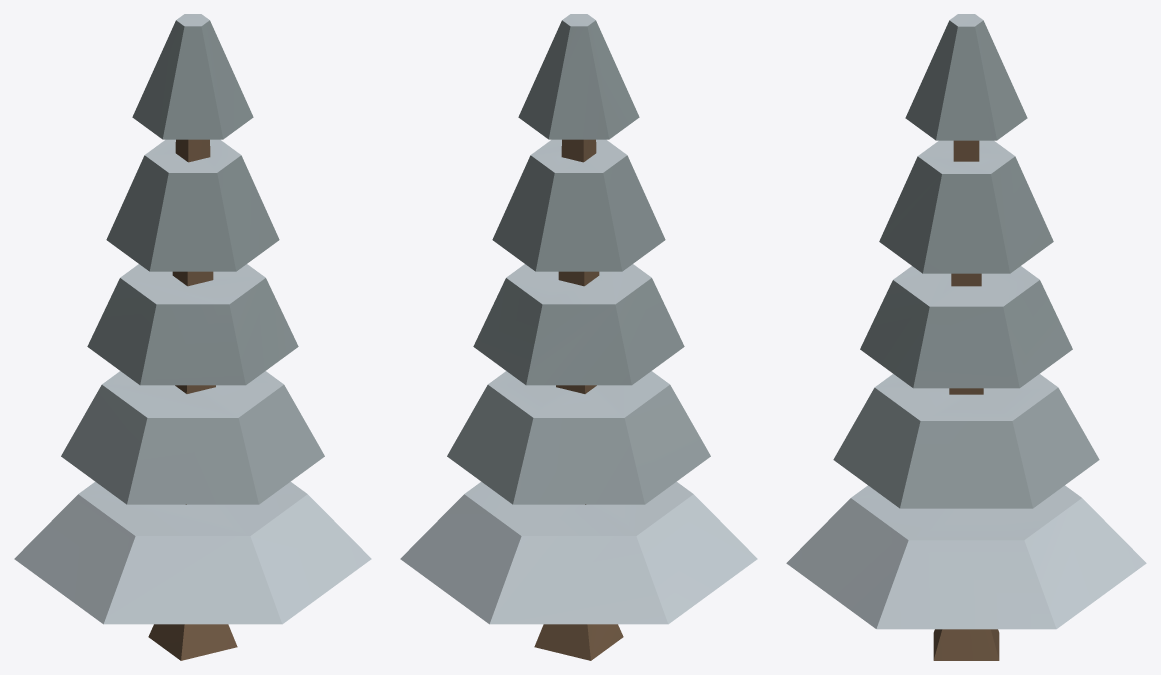
The model's file is tree_pineRoundA.glb.
3 views of the same model, side by side, from view 1: azimuth 30°, elevation 25°; view 2: azimuth 150°, elevation 25°; view 3: azimuth 270°, elevation 25° (orthographic).
Parts seen in each view (by area): view 1: tree_pineRoundA; view 2: tree_pineRoundA; view 3: tree_pineRoundA.
Part boxes in pixels (x1=…): tree_pineRoundA: x1=14, y1=14, x2=371, y2=660; tree_pineRoundA: x1=400, y1=14, x2=757, y2=660; tree_pineRoundA: x1=786, y1=14, x2=1146, y2=660.
Size of the model in its own units: 0.617 by 1.37 by 0.7125.
